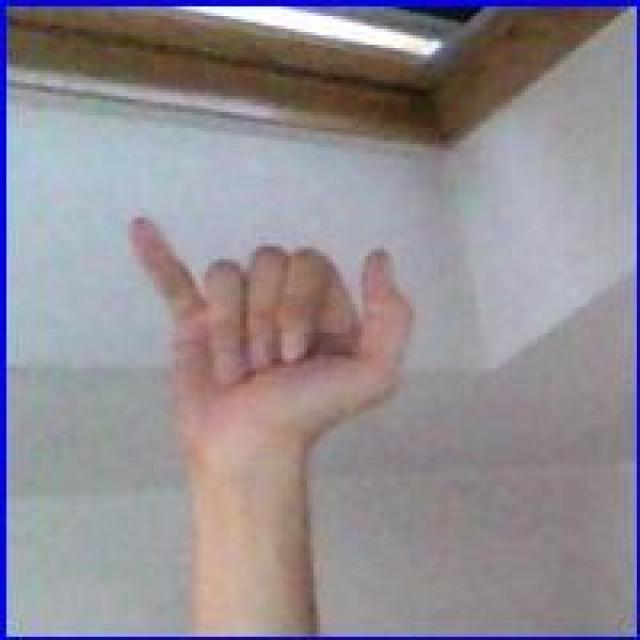Y: (120, 207, 418, 498)
